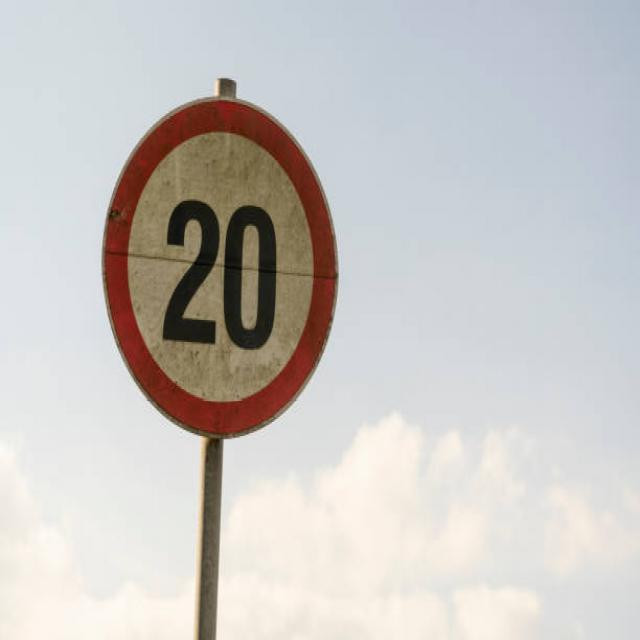speed_limit_20: (101, 91, 343, 443)
